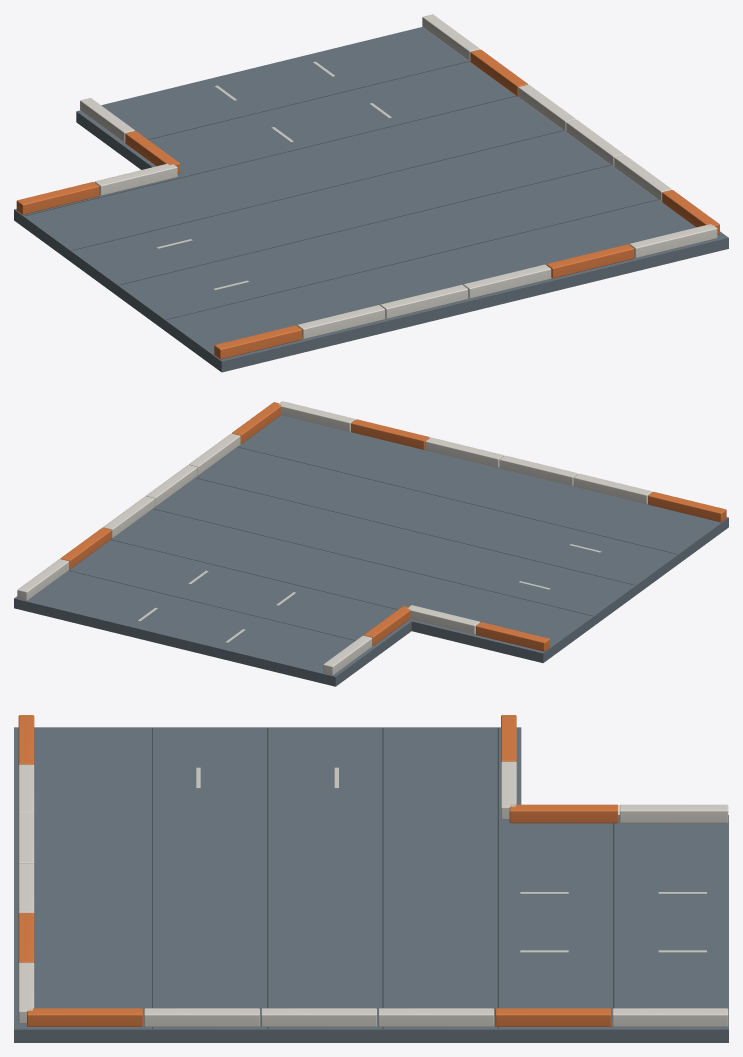
The model's file is OrangeRoadRight.fbx.
3 renders of one model, top to bottom at view 1: azimuth 30°, elevation 25°; view 2: azimuth 150°, elevation 25°; view 3: azimuth 270°, elevation 25°, orthographic. The views are drawn at different scales.
Parts seen in each view (by area): view 1: OrangeRoadRight_OE_RoadDeck, OrangeRoadRight_OE_RoadIvory, OrangeRoadRight_OE_RoadOrange, OrangeRoadRight_OE_RoadJoint; view 2: OrangeRoadRight_OE_RoadDeck, OrangeRoadRight_OE_RoadIvory, OrangeRoadRight_OE_RoadOrange, OrangeRoadRight_OE_RoadJoint; view 3: OrangeRoadRight_OE_RoadDeck, OrangeRoadRight_OE_RoadIvory, OrangeRoadRight_OE_RoadOrange, OrangeRoadRight_OE_RoadJoint, OrangeRoadRight_OE_RoadPaint.
Part boxes in pixels (box(x1,y1,x2,y2)): OrangeRoadRight_OE_RoadDeck: box(14, 27, 728, 372); OrangeRoadRight_OE_RoadIvory: box(80, 14, 717, 339); OrangeRoadRight_OE_RoadOrange: box(16, 49, 719, 359); OrangeRoadRight_OE_RoadJoint: box(25, 61, 658, 319); OrangeRoadRight_OE_RoadDeck: box(14, 415, 728, 686); OrangeRoadRight_OE_RoadIvory: box(17, 401, 652, 675); OrangeRoadRight_OE_RoadOrange: box(60, 402, 726, 651); OrangeRoadRight_OE_RoadJoint: box(69, 447, 676, 646); OrangeRoadRight_OE_RoadDeck: box(14, 727, 728, 1042); OrangeRoadRight_OE_RoadIvory: box(18, 761, 728, 1026); OrangeRoadRight_OE_RoadOrange: box(18, 715, 618, 1026); OrangeRoadRight_OE_RoadJoint: box(152, 728, 614, 1028); OrangeRoadRight_OE_RoadPaint: box(196, 767, 706, 952).
Bounding box in the file's own units: 1550 × 63 × 1550.
